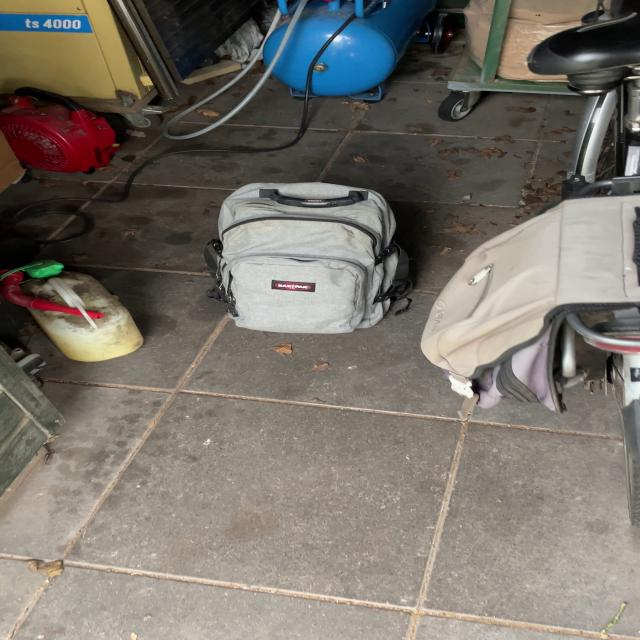backpack: (195, 176, 422, 338)
